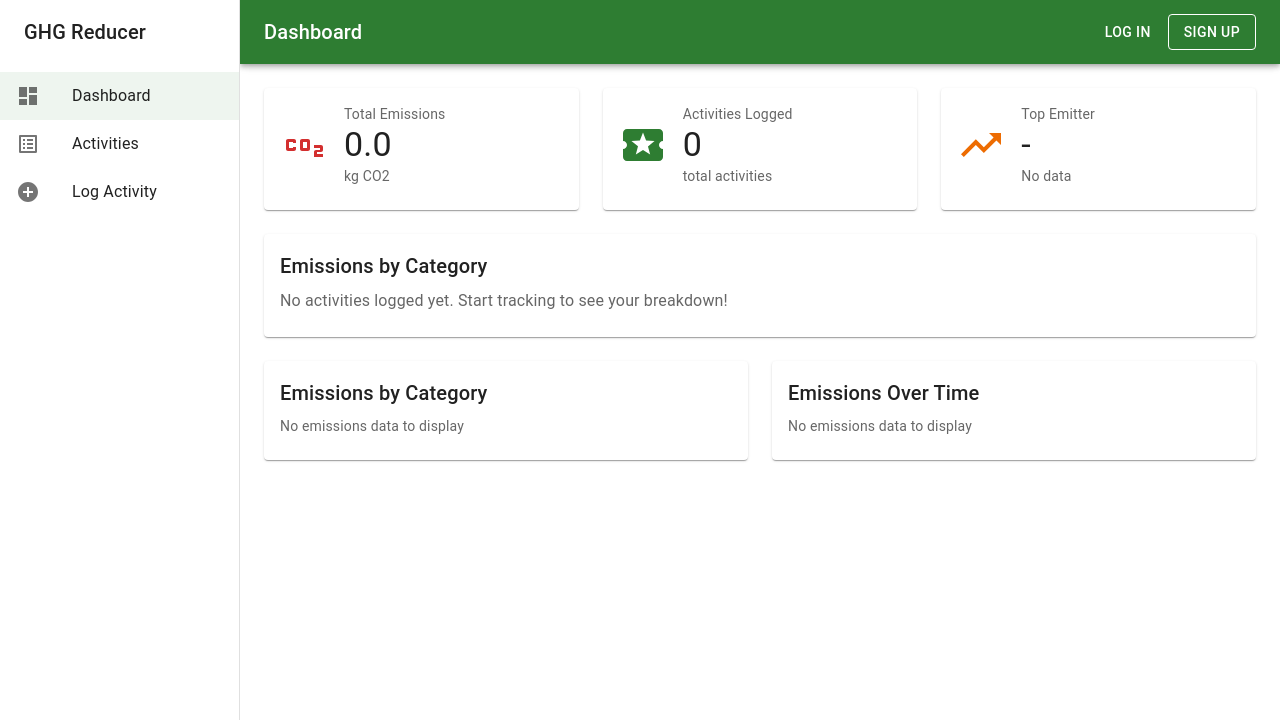
Test: App › navigates to login view
Step 1. Click the button "Log In" → [1128, 32], box [1096, 14, 1160, 50]
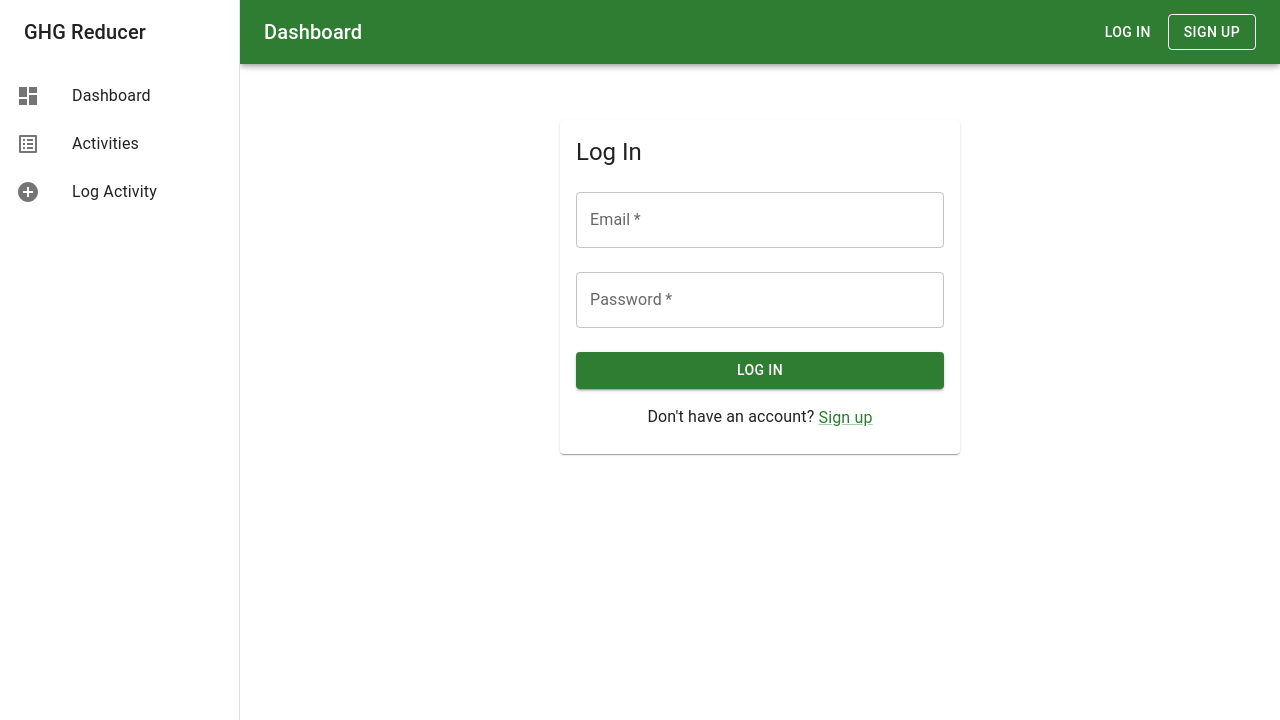
Result: the heading "Log In" is shown at [576, 138, 642, 166]
